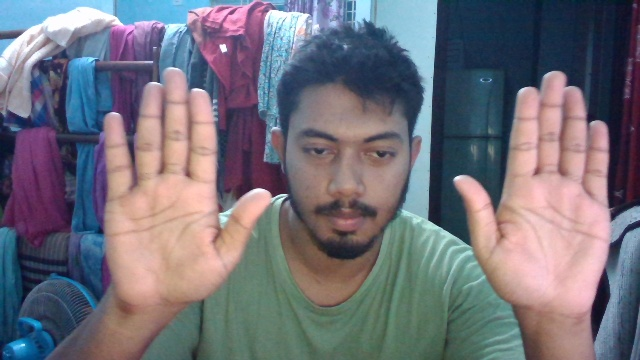thanks: (94, 62, 617, 318)
